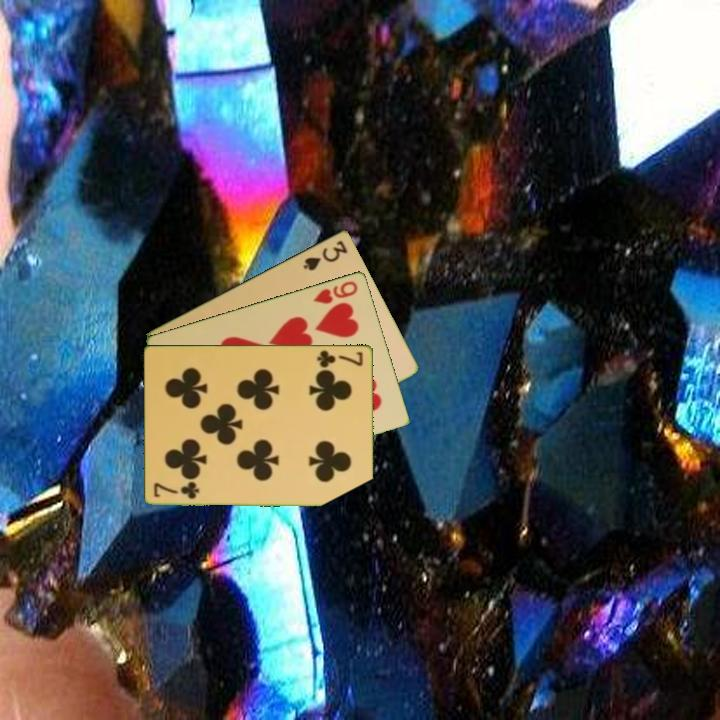3s: (300, 236, 350, 273)
7c: (314, 346, 366, 370), (151, 480, 202, 501)
9h: (310, 277, 361, 307)
